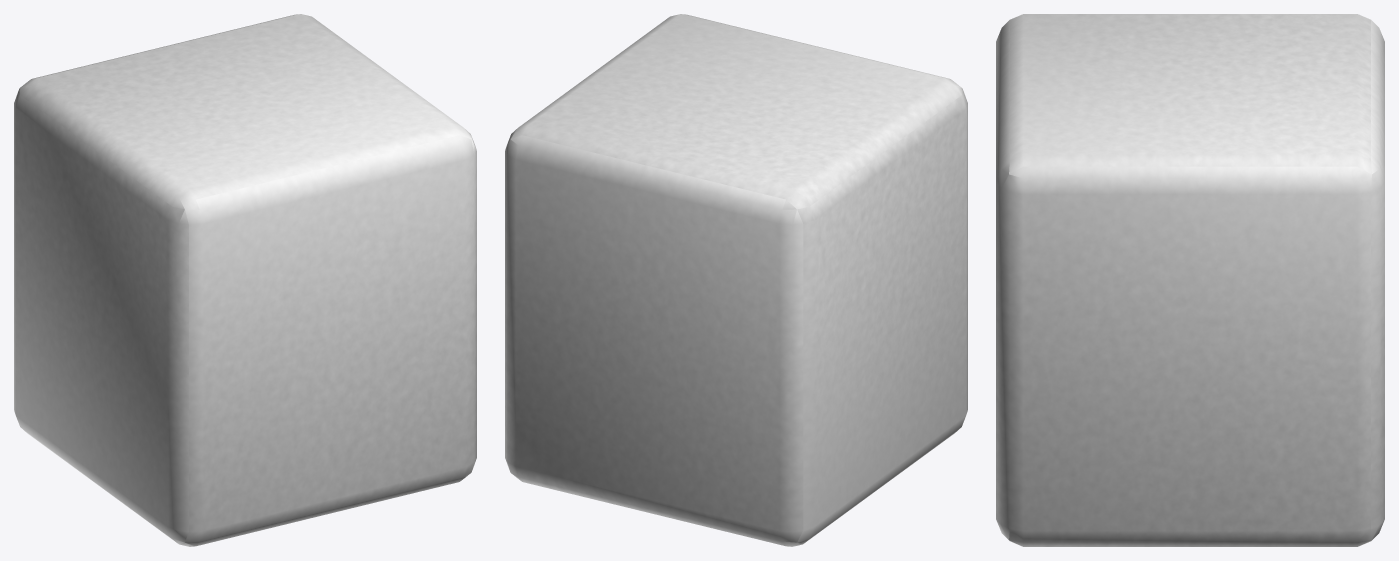
File: blockmovable.fbx
3 renders of one model, left to right at view 1: azimuth 30°, elevation 25°; view 2: azimuth 150°, elevation 25°; view 3: azimuth 270°, elevation 25°, orthographic. The views are drawn at different scales.
Parts seen in each view (by area): view 1: Cube; view 2: Cube; view 3: Cube.
Boxes of the visible parts, x1,y1,x2,y2 form: Cube: [14, 14, 476, 546]; Cube: [505, 14, 967, 546]; Cube: [996, 14, 1384, 546].
Bounding box in the file's own units: 1.8 × 2 × 1.8.
Materials: 1 (1 with a texture image).
